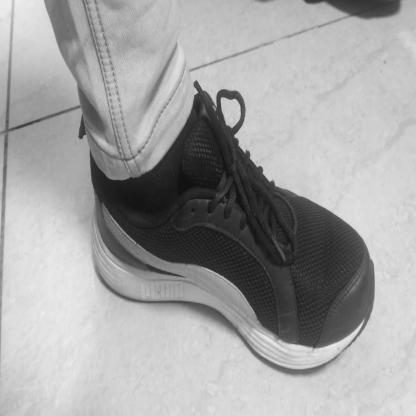ankle: (149, 220, 155, 227)
heel: (94, 219, 98, 229)
left_foot: (91, 113, 376, 372)
pinky: (343, 225, 347, 234)
toe: (340, 333, 345, 344)
